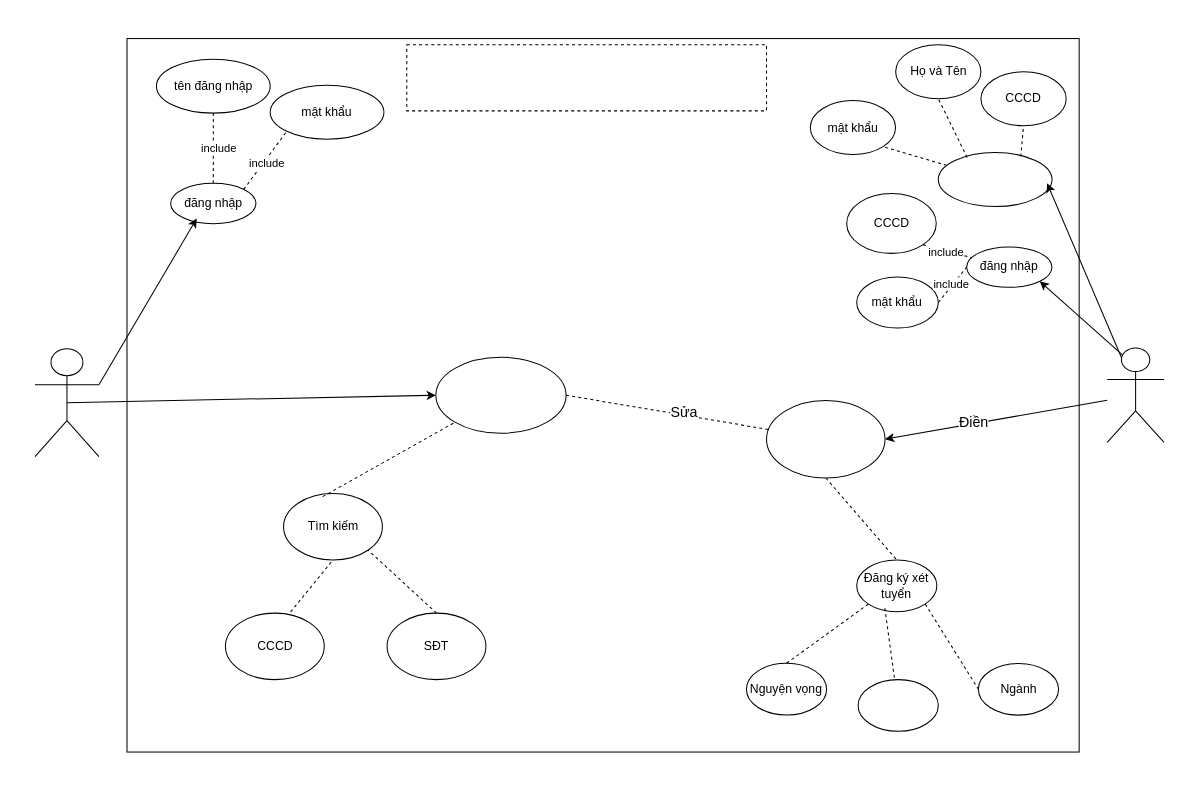
Some shapes in this 1182 by 789 pixel diagram are drawn without their labels. The box of each missing label's shape, as (x1, y1, x2, y2) in pixels:
Cán bộ tuyển sinh: (34, 348, 99, 457)
Hệ thống Tuyển sinh: (406, 44, 767, 111)
Quản lý đăng ký xét tuyển: (435, 356, 566, 433)
Thí sinh: (1106, 347, 1164, 442)
Thông tin thí sinh: (766, 399, 885, 478)
Điểm: (857, 679, 938, 731)
đăng ký: (937, 152, 1052, 207)
